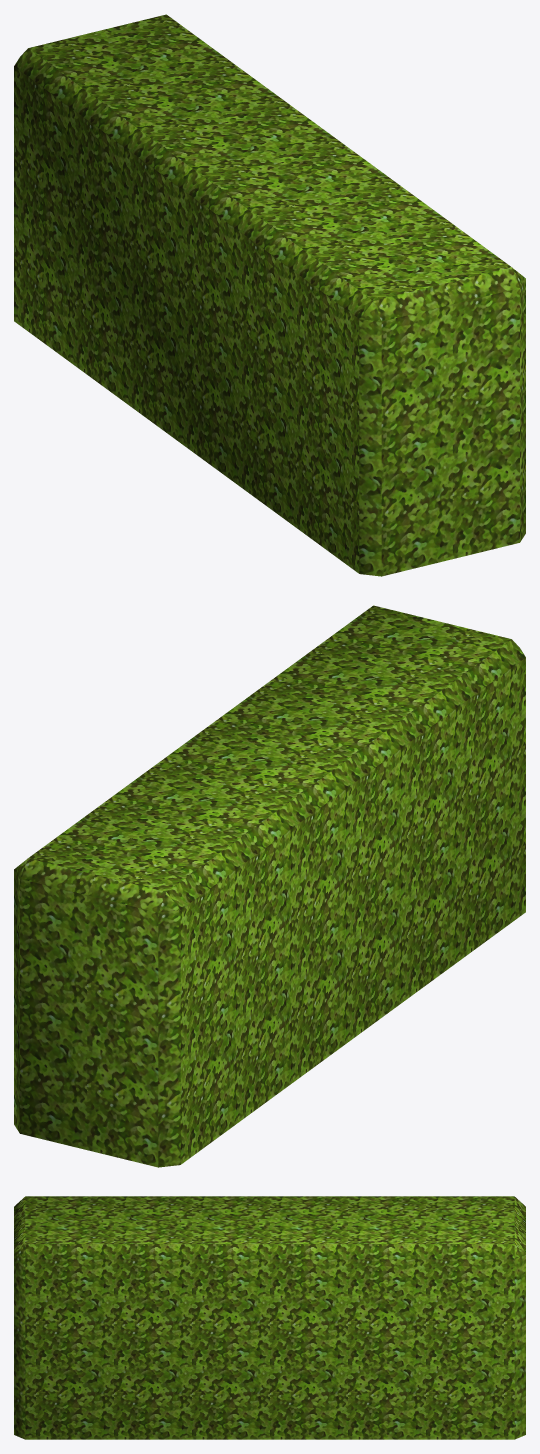
Rendered from hedge_block.glb.
The picture shows the model from 3 angles, top to bottom: view 1: azimuth 30°, elevation 25°; view 2: azimuth 150°, elevation 25°; view 3: azimuth 270°, elevation 25°; orthographic projection. The views are drawn at different scales.
Visible parts, largest first — view 1: Material2; view 2: Material2; view 3: Material2.
Part boxes in pixels (box(x1,y1,x2,y2)): Material2: box(14, 14, 525, 576); Material2: box(14, 605, 525, 1167); Material2: box(14, 1196, 525, 1439).
Size of the model in its own units: 20.94 by 32.38 by 78.74.
1 material, 1 textured.
